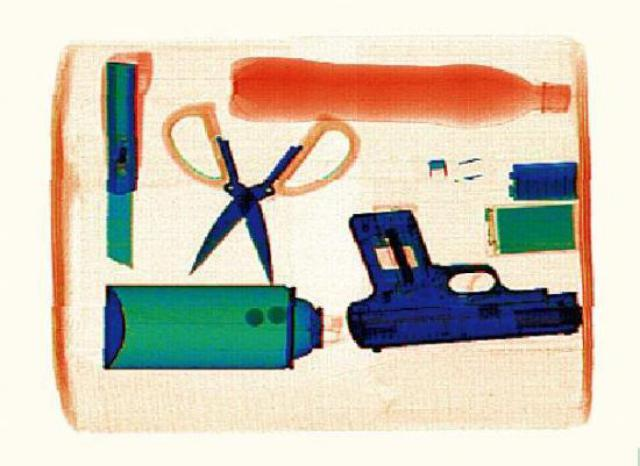Gun: (344, 204, 586, 350)
Scissors: (159, 99, 363, 285)
